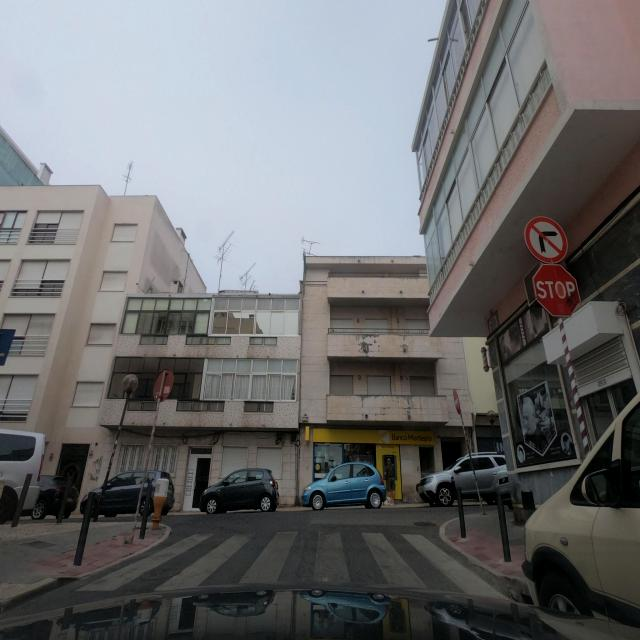car: (520, 356, 640, 633), (504, 298, 640, 526), (0, 426, 79, 522), (417, 451, 508, 507), (80, 470, 175, 520), (301, 460, 387, 510), (198, 467, 280, 514)
